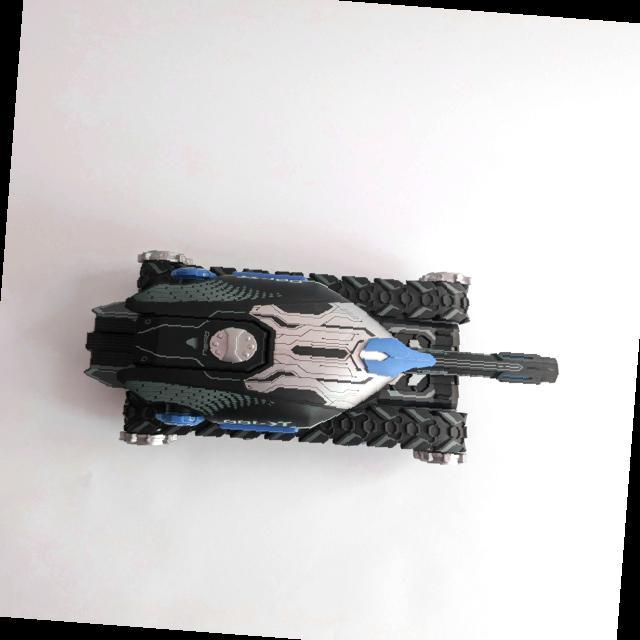barrel: (403, 346, 561, 382)
